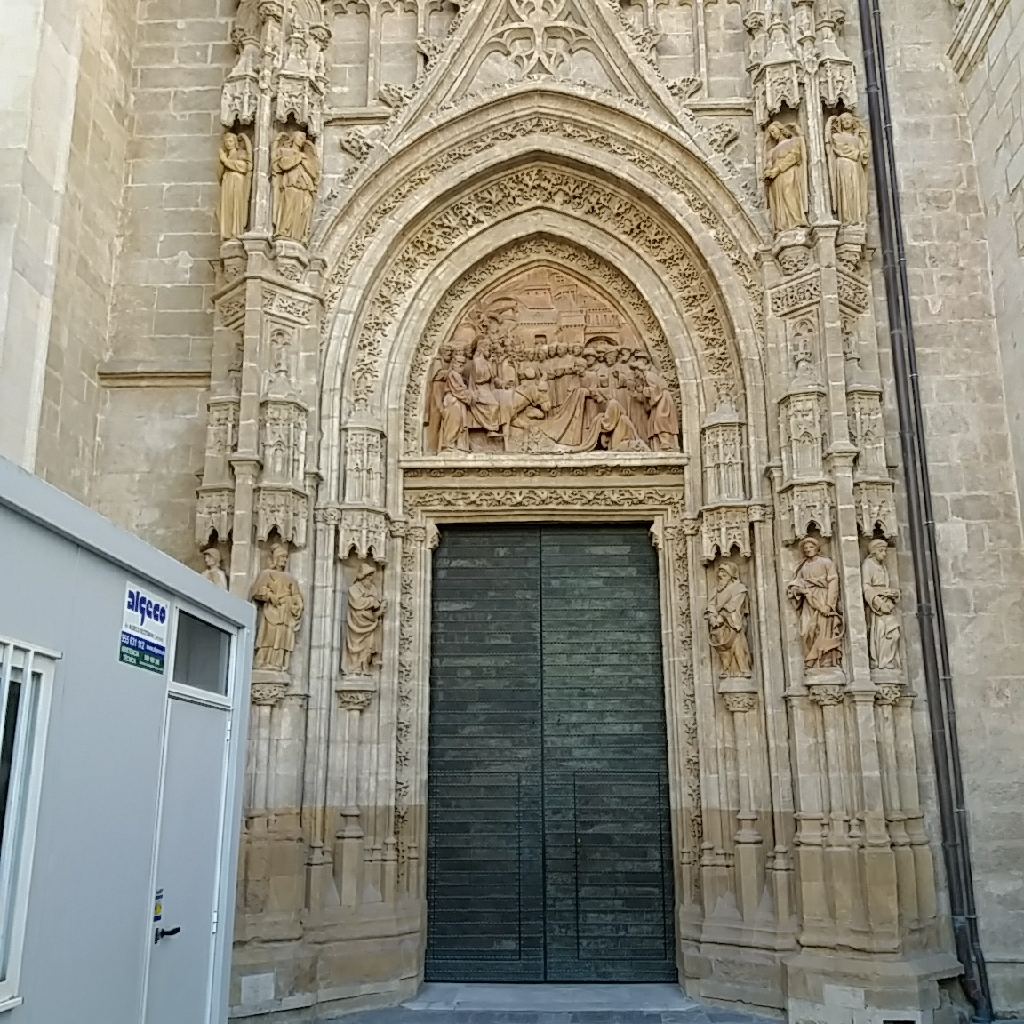arco-apuntado: (347, 87, 749, 469)
